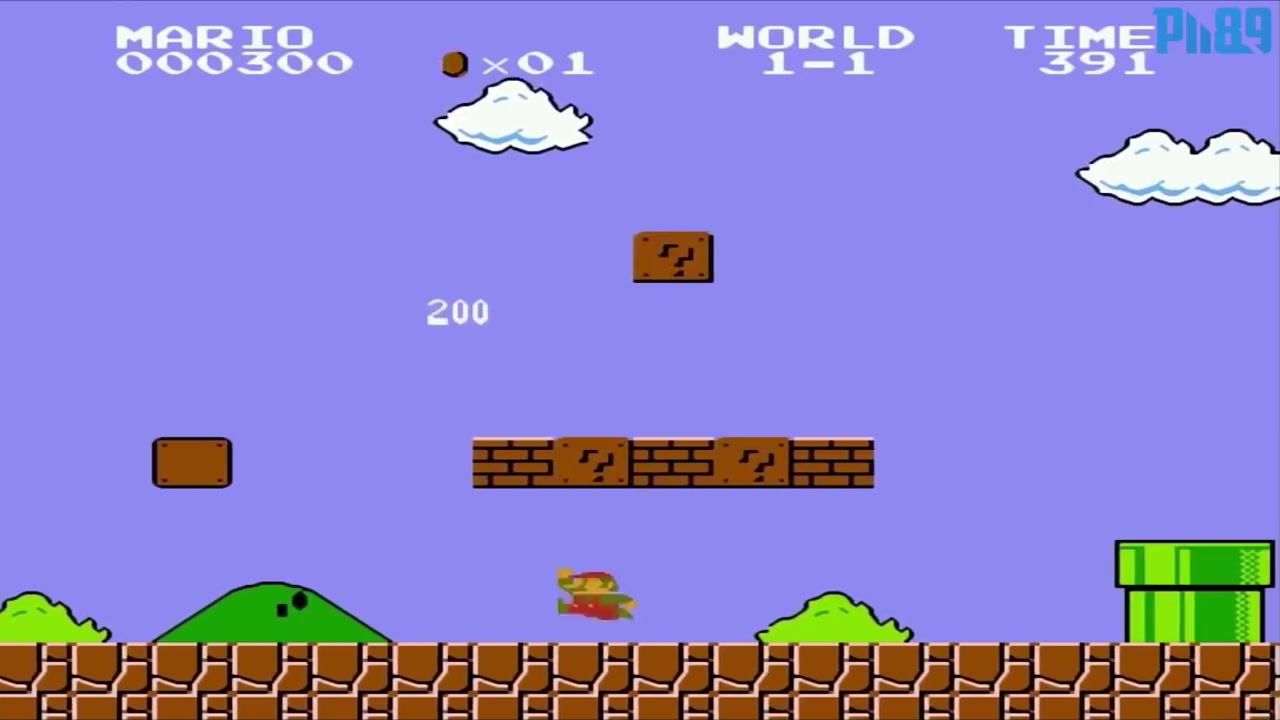mario: (542, 557, 646, 626)
